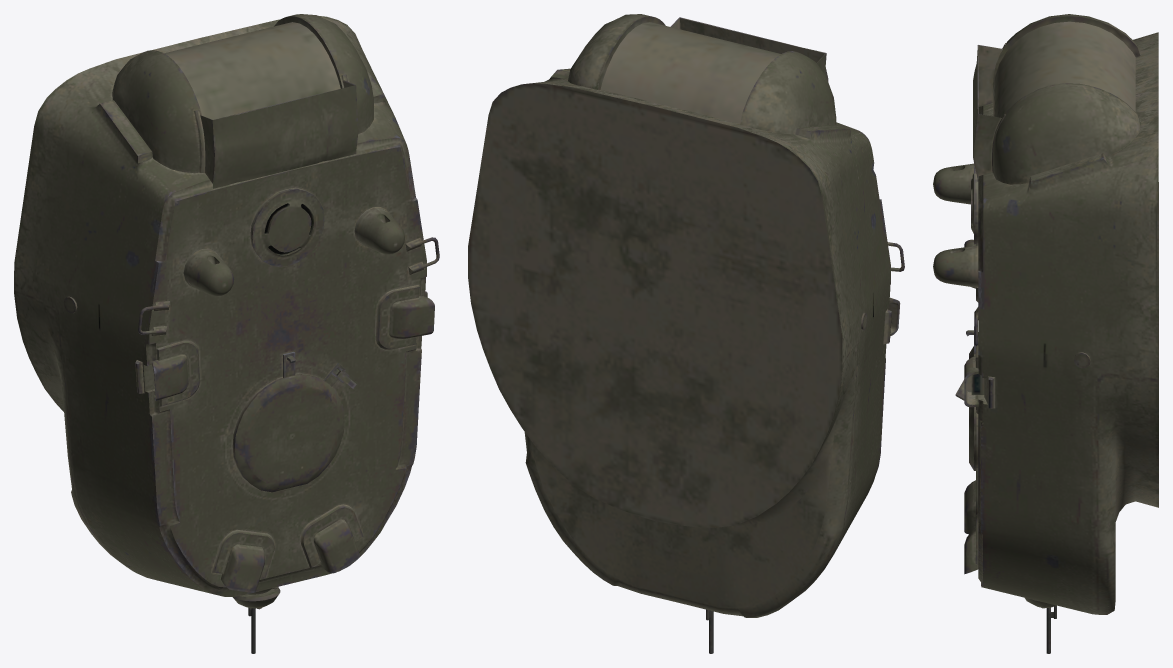
File: Turret_02.glb
The picture shows the model from 3 angles, left to right: view 1: azimuth 30°, elevation 25°; view 2: azimuth 150°, elevation 25°; view 3: azimuth 270°, elevation 25°; orthographic projection. The views are drawn at different scales.
Parts seen in each view (by area): view 1: set_0_group_0; view 2: set_0_group_0; view 3: set_0_group_0.
Boxes of the visible parts, x1,y1,x2,y2 form: set_0_group_0: (14,14,439,653); set_0_group_0: (468,14,904,653); set_0_group_0: (933,14,1158,653).
Bounding box in the file's own units: 1.9 × 3.02 × 1.03.
Materials: 1 (1 with a texture image).
